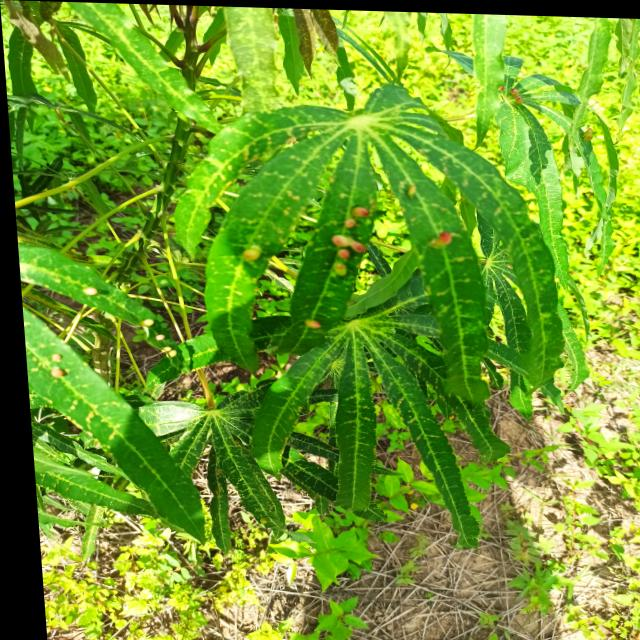Maleza: (40, 543, 635, 640), (291, 515, 364, 598)
Mosca: (319, 229, 374, 281), (137, 309, 187, 365), (426, 221, 464, 256), (336, 199, 378, 227), (46, 347, 72, 392), (233, 239, 270, 266), (300, 311, 337, 338), (406, 177, 427, 200), (73, 280, 97, 300)
